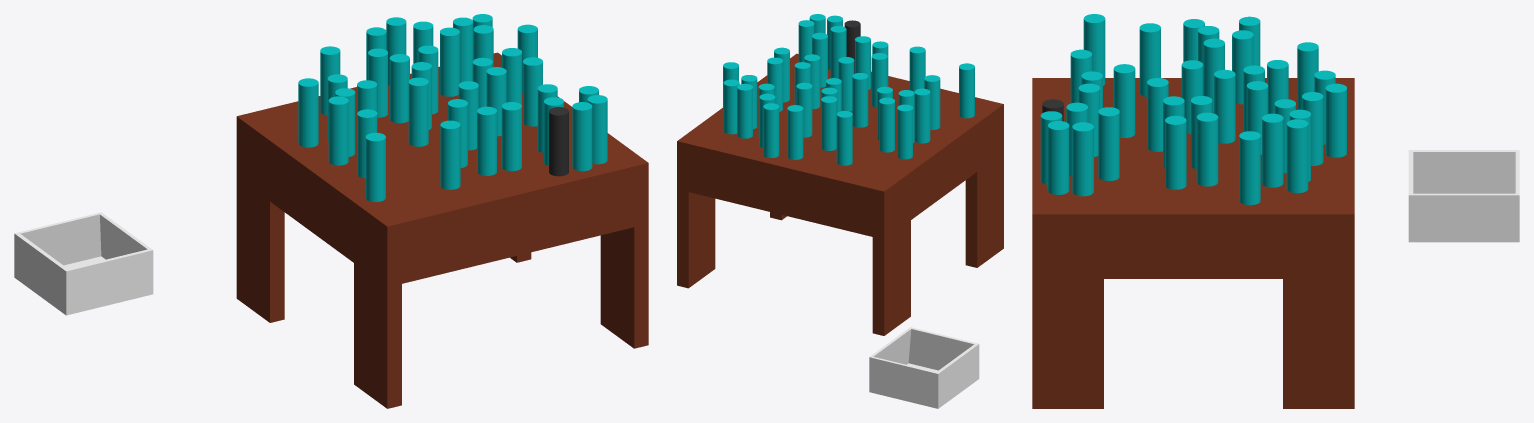
File: can_world_36_cans.dae
3 views of the same model, side by side, from view 1: azimuth 30°, elevation 25°; view 2: azimuth 150°, elevation 25°; view 3: azimuth 270°, elevation 25° (orthographic). The views are drawn at different scales.
Parts seen in each view (by area): view 1: base (×34), SketchUp (×2); view 2: base (×35), SketchUp (×2); view 3: base (×36), SketchUp (×2).
Boxes of the visible parts, x1=… form: base (×34): x1=236, y1=17, x2=648, y2=408; SketchUp (×2): x1=14, y1=212, x2=153, y2=315; base (×35): x1=677, y1=15, x2=1003, y2=335; SketchUp (×2): x1=869, y1=327, x2=979, y2=408; base (×36): x1=1032, y1=14, x2=1354, y2=408; SketchUp (×2): x1=1408, y1=150, x2=1519, y2=242.
Size of the model in its own units: 1.4 by 1.36 by 0.811.
